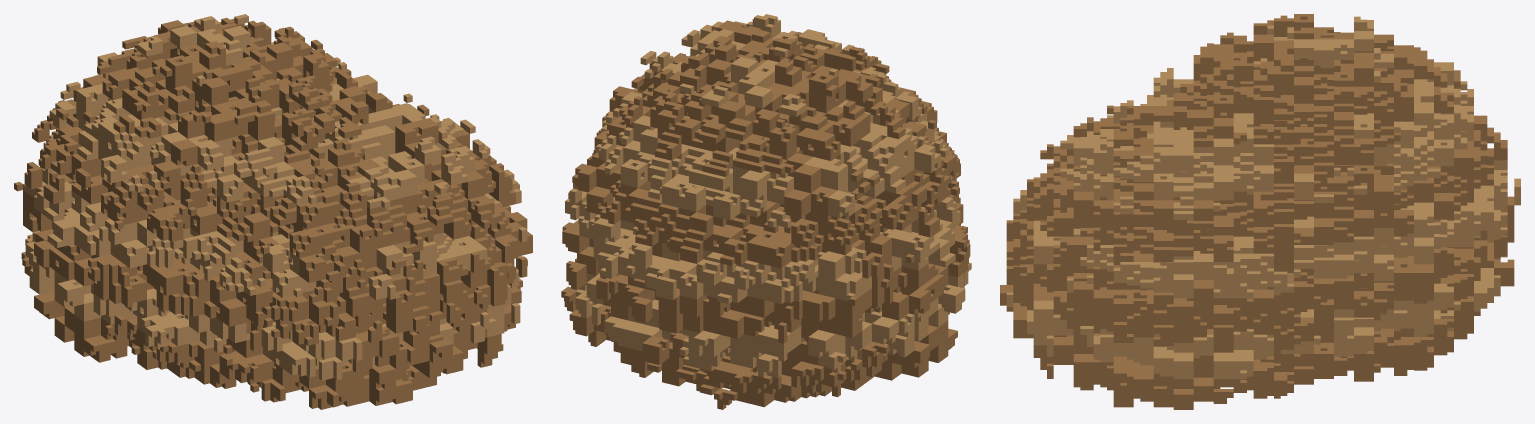
File: rock_dunes_2.obj
3 renders of one model, left to right at view 1: azimuth 30°, elevation 25°; view 2: azimuth 150°, elevation 25°; view 3: azimuth 270°, elevation 25°, orthographic. The views are drawn at different scales.
Size of the model in its own units: 1.75 by 1.15 by 1.95.
Materials: 1 (1 with a texture image).
